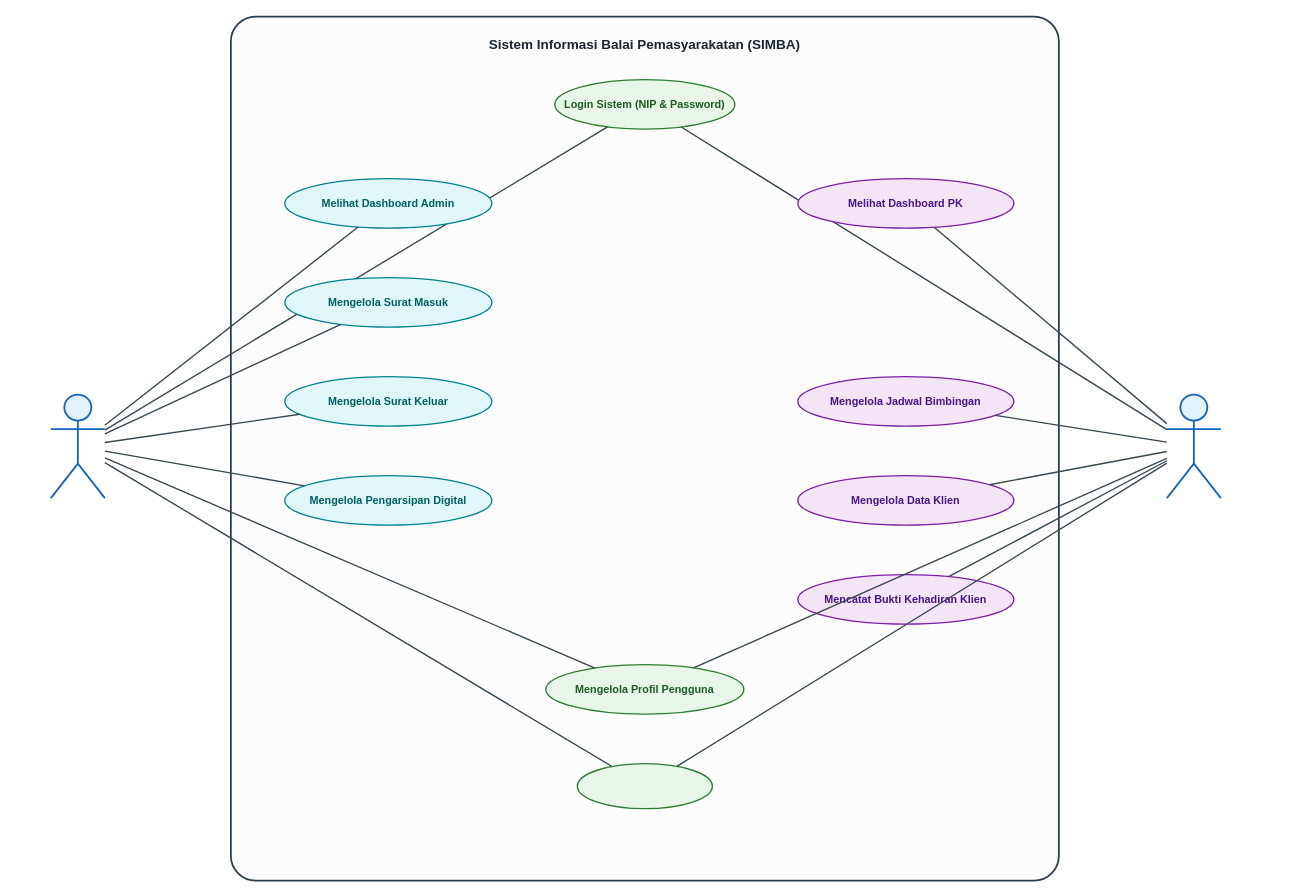
Some shapes in this 1306 by 896 pixel diagram are drawn without their labels. The shapes that lost their labels are listed below. From the top down, each one's centre as x and y in pixels, then its label:
point 77,446: Admin / Bagian Umum
point 1193,446: Pembimbing Kemasyarakatan (PK)
point 644,786: Logout Sistem
